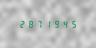eight: (26, 20, 34, 28)
five: (71, 20, 79, 28)
four: (62, 20, 70, 28)
nine: (53, 20, 61, 28)
one: (44, 20, 52, 28)
seven: (35, 20, 43, 28)
two: (17, 20, 25, 28)
